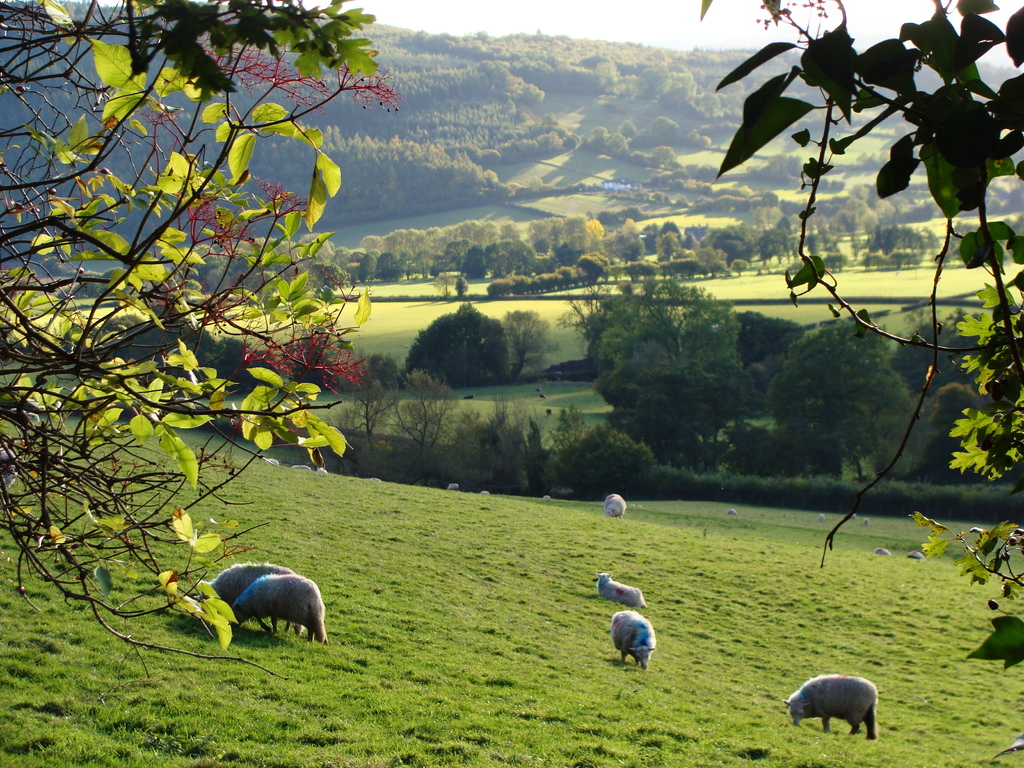sheep: (785, 676, 874, 735), (609, 609, 654, 670), (594, 572, 647, 607), (604, 494, 626, 519)
